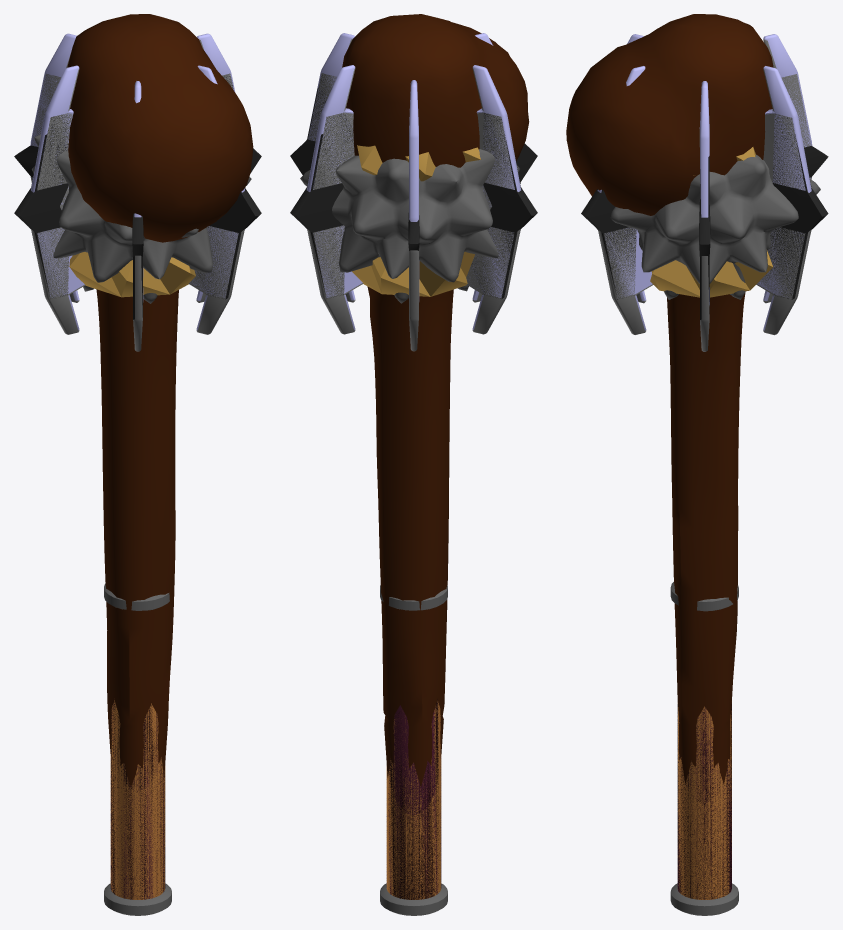
File: MacesNP04.fbx
3 renders of one model, left to right at view 1: azimuth 30°, elevation 25°; view 2: azimuth 150°, elevation 25°; view 3: azimuth 270°, elevation 25°, orthographic.
Parts seen in each view (by area): view 1: Club, Mace, BMace, BsMace, IMace, AMace; view 2: Club, Mace, IMace, BsMace, BMace, AMace; view 3: Club, Mace, IMace, BMace, BsMace, AMace.
Boxes of the visible parts, box(x1,y1,x2,y2) form: Club: box(67, 14, 253, 786); Mace: box(30, 39, 244, 915); BMace: box(69, 252, 195, 899); BsMace: box(30, 33, 244, 899); IMace: box(32, 134, 251, 303); AMace: box(14, 74, 261, 319); Club: box(342, 14, 529, 786); Mace: box(307, 39, 520, 915); IMace: box(300, 137, 519, 303); BsMace: box(307, 33, 520, 898); BMace: box(352, 145, 480, 899); AMace: box(290, 75, 537, 298); Club: box(566, 14, 773, 784); Mace: box(598, 39, 811, 915); IMace: box(610, 154, 820, 299); BMace: box(650, 147, 772, 899); BsMace: box(597, 34, 812, 898); AMace: box(581, 115, 828, 319).
Size of the model in its own units: 0.2454 by 0.8461 by 0.2283.
